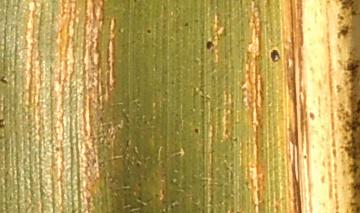tarspot: (269, 49, 281, 63), (204, 40, 215, 50), (1, 74, 9, 84), (307, 110, 314, 121), (1, 117, 6, 130), (193, 126, 199, 135), (145, 29, 152, 35), (183, 21, 189, 28), (135, 161, 141, 168), (54, 146, 60, 153), (70, 208, 77, 213), (133, 1, 137, 3)
